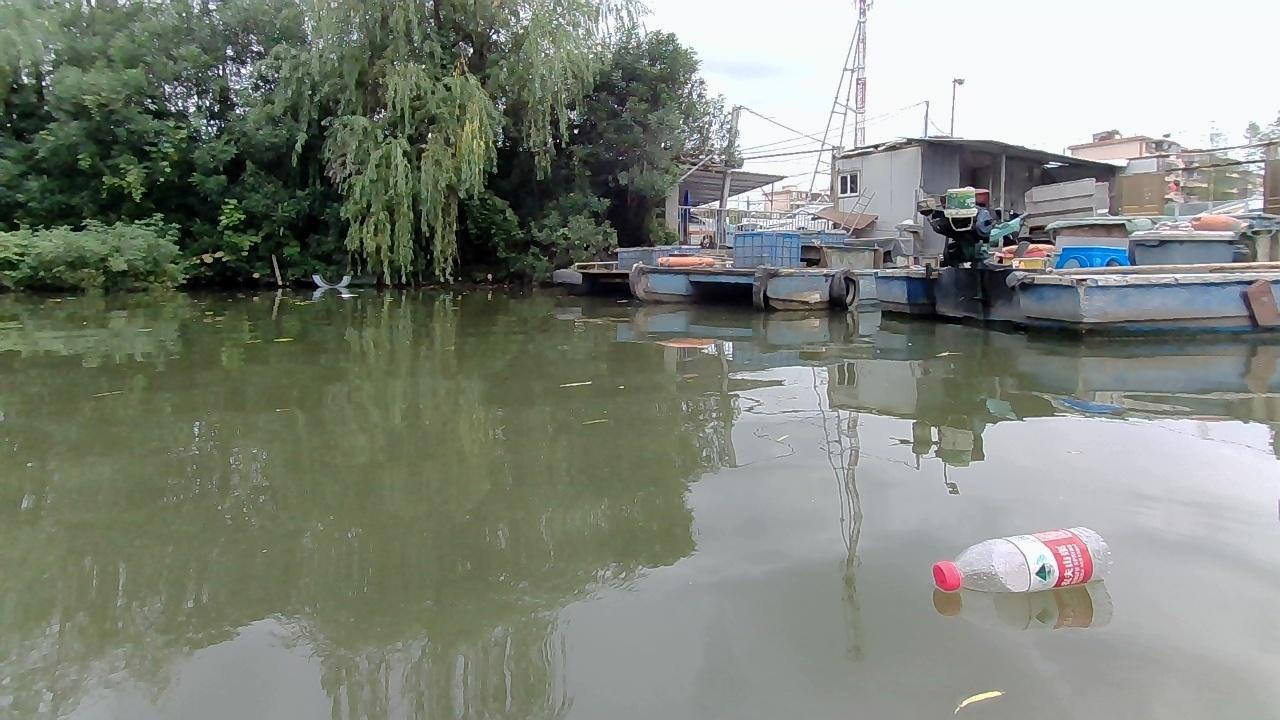bottle: (924, 519, 1115, 602)
